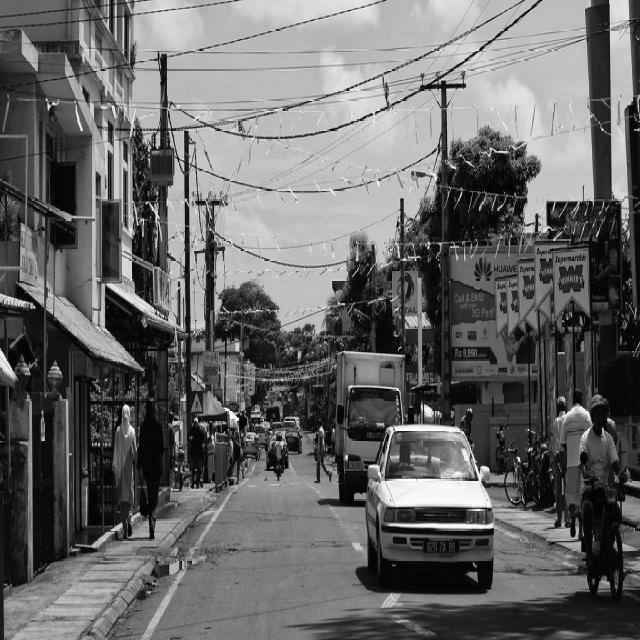car: (365, 424, 496, 586)
